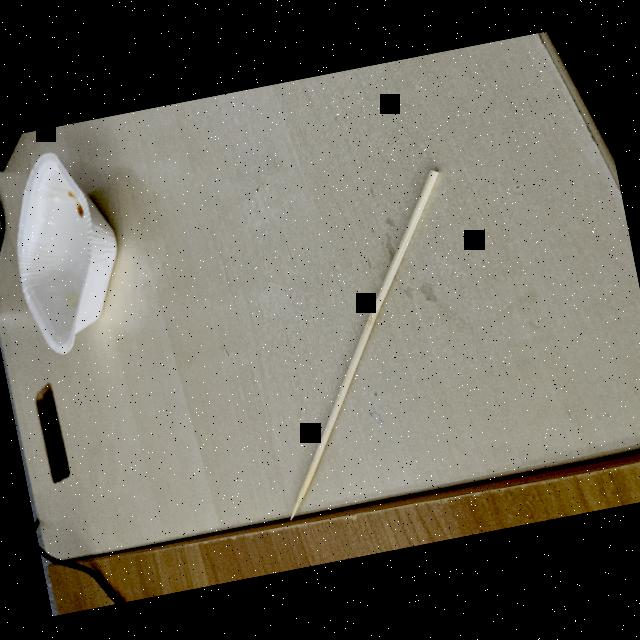cardboard_bowl: (0, 131, 166, 365)
stick: (212, 152, 528, 528)
